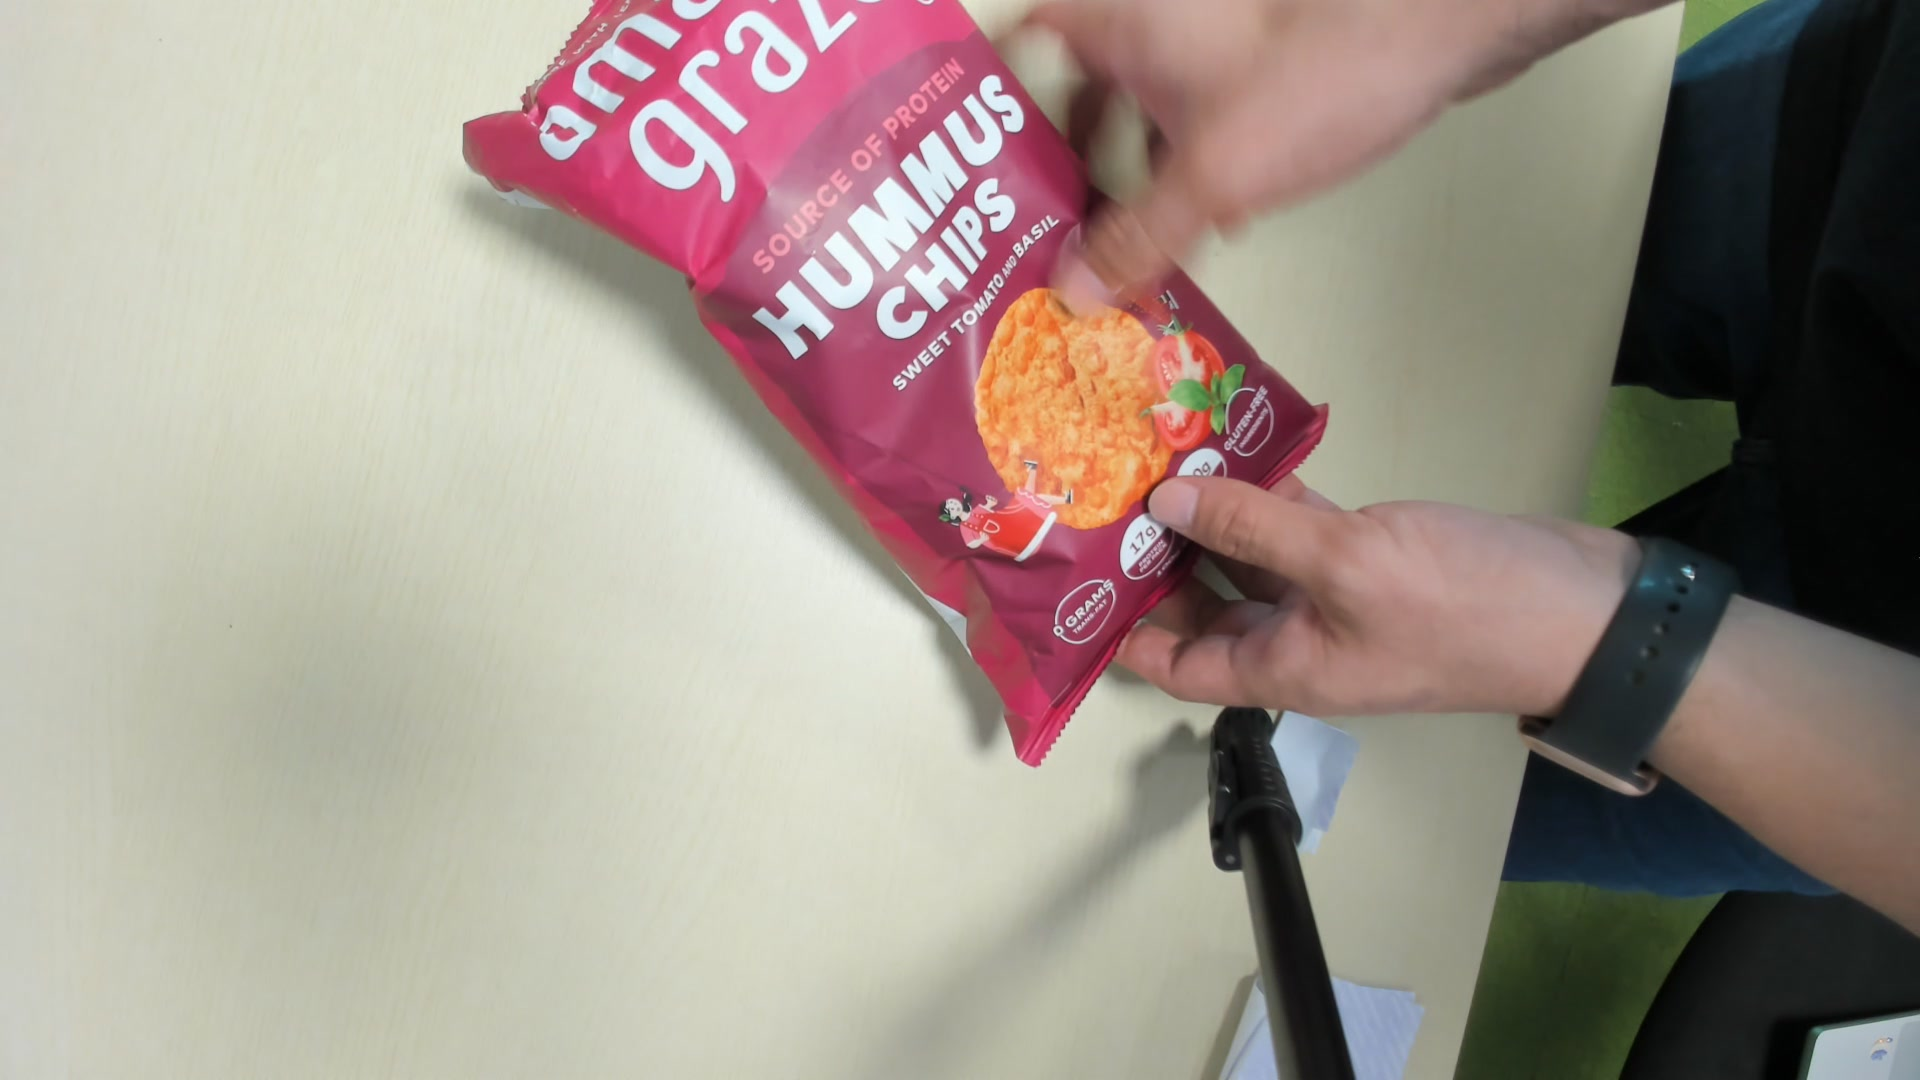PotatoChipsKeropok_100-199g_NonHalal_NonHealthy: (462, 11, 1328, 764)
